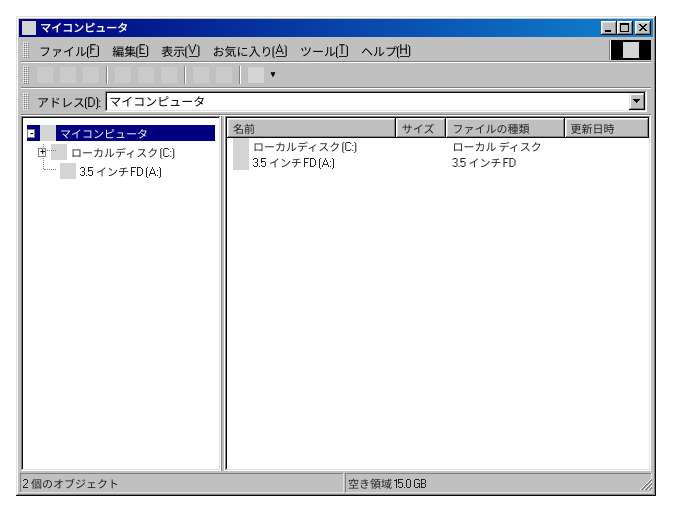
Test: FileExplorer › switches view mode via menu items
This screenshot has width=673, height=513.
Click the menu item "表示( V )" at (181, 50), box x1=161 y1=43 x2=201 y2=58
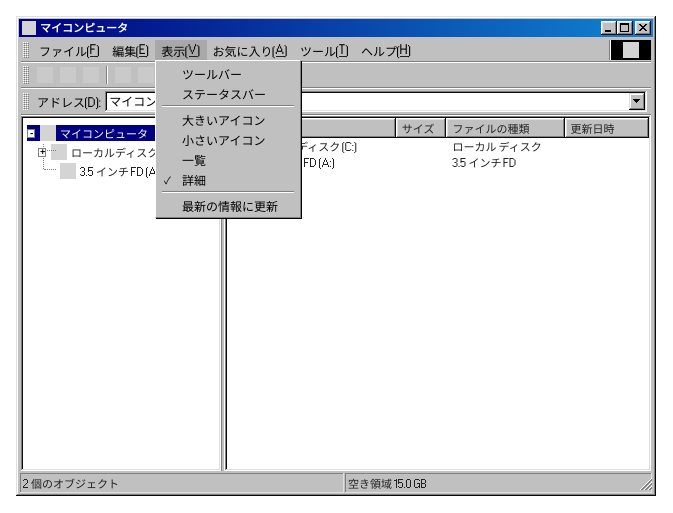
Click the menu item "大きいアイコン" at (224, 120), box x1=182 y1=114 x2=266 y2=126
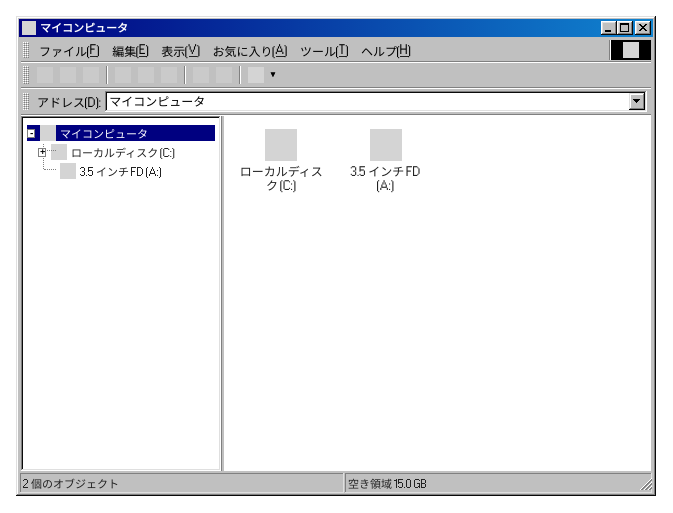
Click the menu item "表示( V )" at (181, 50), box x1=161 y1=43 x2=201 y2=58
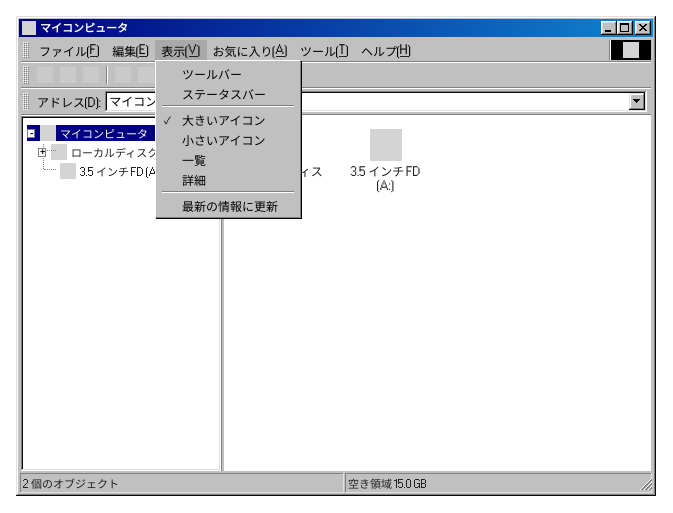
Expected: the menu item "詳細" does not show "✓詳細", x1=182 y1=174 x2=206 y2=186
Now the menu item "✓ 大きいアイコン" is shown, box x1=164 y1=114 x2=266 y2=126
